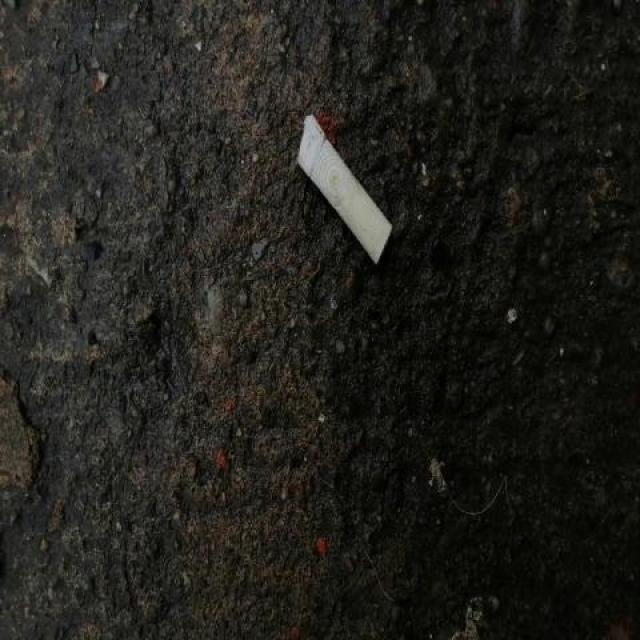non-organic waste: (293, 108, 395, 269)
